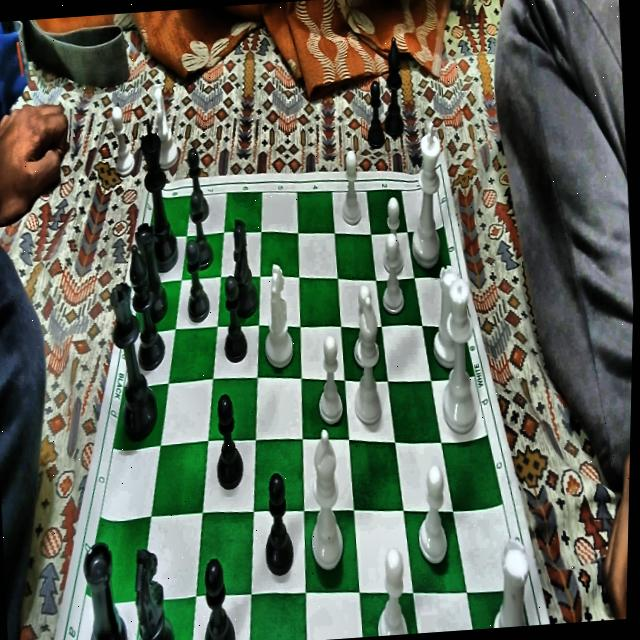BlackBishop: (125, 241, 169, 371), (379, 34, 407, 138)
BlackKing: (134, 116, 183, 276)
BlackKnight: (129, 545, 177, 640), (224, 217, 262, 321)
BlackPawn: (259, 471, 296, 577), (210, 390, 247, 490), (197, 558, 236, 640), (218, 274, 250, 362), (182, 238, 212, 324), (186, 190, 216, 270), (186, 147, 211, 222), (363, 80, 387, 150)
BlackQueen: (106, 278, 162, 444)
BlackRook: (80, 537, 132, 640), (132, 220, 172, 326)
WhiteBishop: (303, 428, 348, 572), (345, 295, 385, 429)
WhiteKing: (402, 118, 447, 269)
WhiteKnight: (258, 259, 296, 369), (149, 81, 182, 169)
WhitePawn: (413, 463, 451, 569), (371, 546, 409, 636), (311, 332, 346, 428), (349, 284, 382, 370), (378, 232, 407, 313), (336, 147, 363, 226), (109, 104, 138, 175), (379, 196, 405, 272)
WhiteQueen: (434, 275, 482, 436)
WhiteRook: (485, 540, 533, 628), (428, 263, 465, 369)
